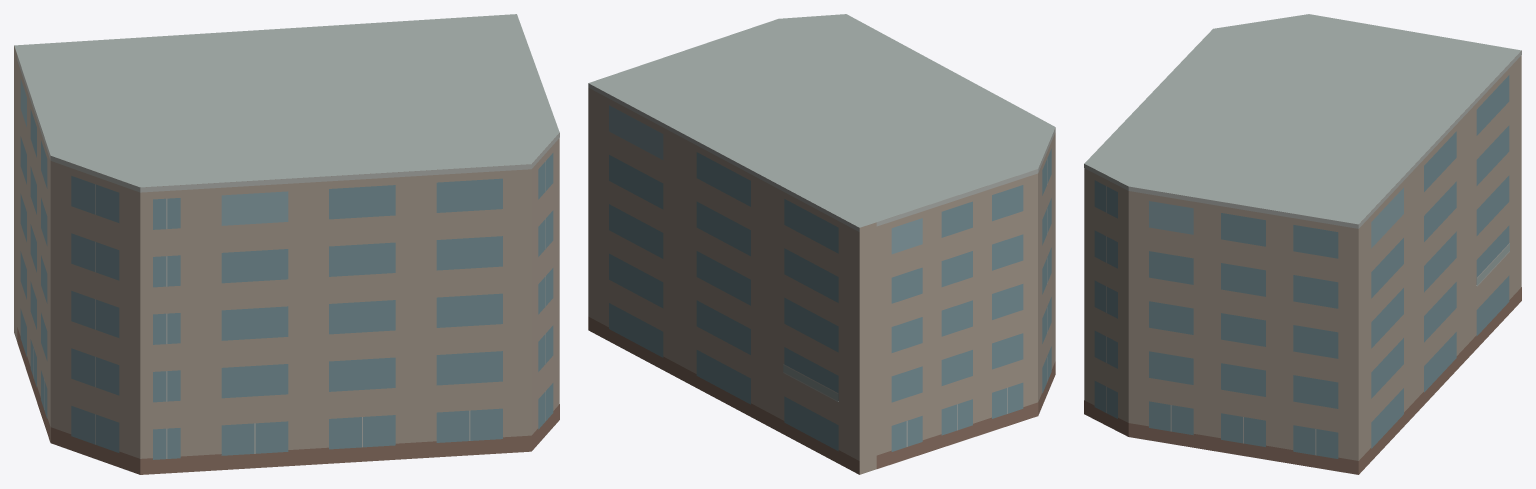
Rendered from survey-upis-32939134.glb.
3 views of the same model, side by side, from view 1: azimuth 30°, elevation 25°; view 2: azimuth 150°, elevation 25°; view 3: azimuth 270°, elevation 25° (orthographic). The views are drawn at different scales.
Visible parts, largest first — view 1: survey-upis-32939134.tmp; view 2: survey-upis-32939134.tmp; view 3: survey-upis-32939134.tmp.
Boxes of the visible parts, x1,y1,x2,y2 form: survey-upis-32939134.tmp: [14, 14, 559, 474]; survey-upis-32939134.tmp: [588, 14, 1055, 474]; survey-upis-32939134.tmp: [1084, 14, 1521, 474].
Size of the model in its own units: 24.69 by 13.7 by 21.7.
